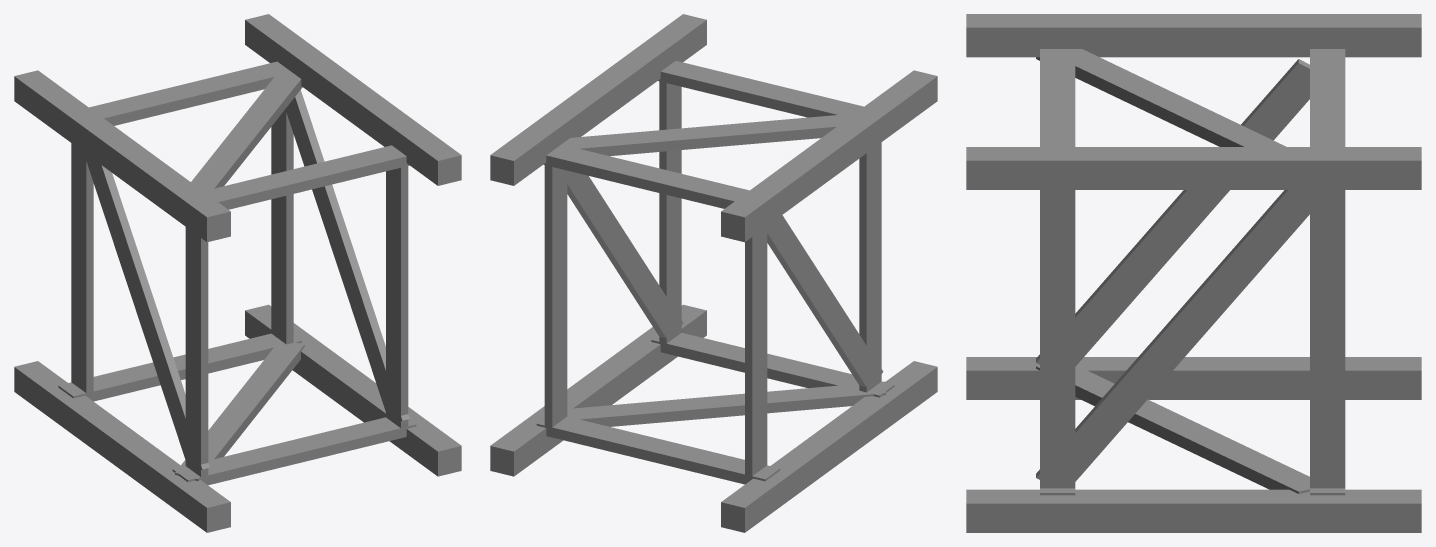
Rendered from construction-wires.obj.
3 views of the same model, side by side, from view 1: azimuth 30°, elevation 25°; view 2: azimuth 150°, elevation 25°; view 3: azimuth 270°, elevation 25° (orthographic). The views are drawn at different scales.
Visible parts, largest first — view 1: construction-wires_Cube.106; view 2: construction-wires_Cube.106; view 3: construction-wires_Cube.106.
Boxes of the visible parts, bbox=[...] form: construction-wires_Cube.106: bbox=[14, 14, 461, 532]; construction-wires_Cube.106: bbox=[490, 14, 937, 532]; construction-wires_Cube.106: bbox=[966, 14, 1421, 532].
Bounding box in the file's own units: 1.35 × 1.59 × 1.77.
